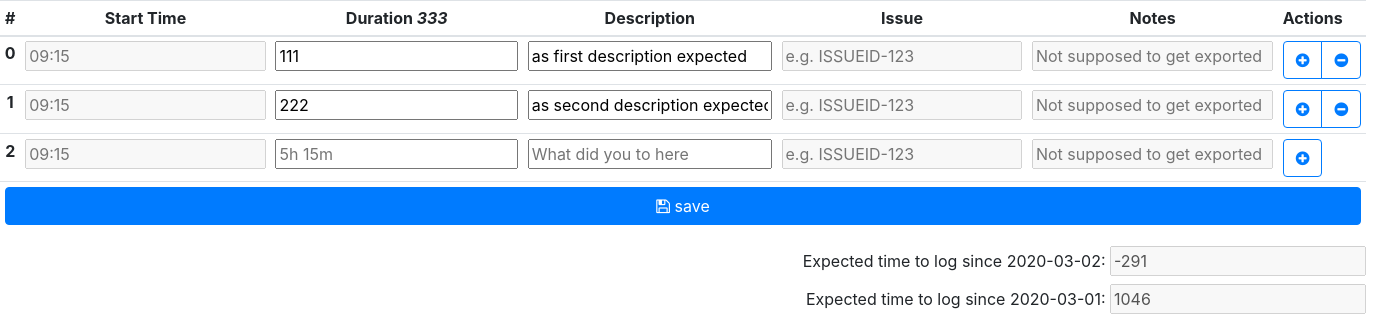
Scenario: TimelogDayView › Remove an element › should remove an element the remove button has been clicked
expect the 1st field showing "as first description expected" is shown: met, box [528,41,772,71]
Click the 1st button titled "remove this entry".
click(1341, 60)  # box [1321,41,1361,79]
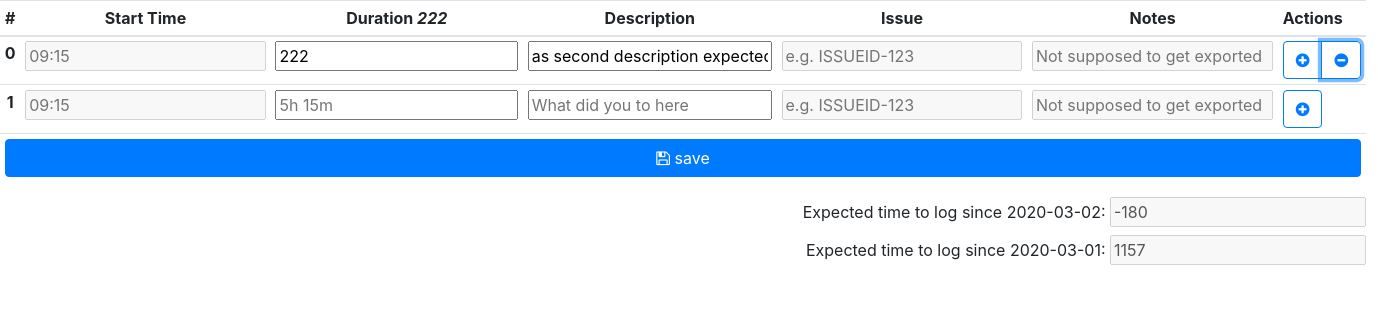
expect the field showing "as second description expected" is shown: met, box [528,41,772,71]
